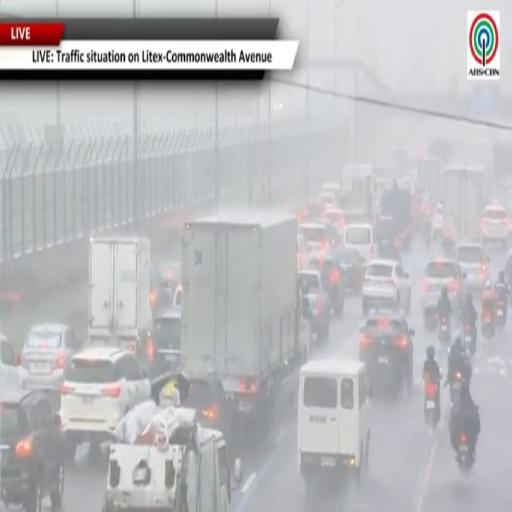car: (61, 346, 151, 461), (298, 360, 371, 493), (0, 387, 64, 511), (359, 311, 414, 392), (21, 324, 81, 391), (182, 373, 236, 445), (421, 259, 465, 325), (362, 260, 411, 315), (309, 252, 344, 316), (299, 268, 330, 340), (149, 309, 181, 377), (150, 262, 181, 312), (457, 243, 489, 291), (336, 248, 365, 293), (343, 223, 375, 261), (481, 205, 509, 247), (375, 216, 401, 259), (0, 334, 20, 386), (298, 221, 330, 251), (323, 207, 344, 236), (297, 201, 324, 222), (432, 204, 443, 241), (297, 235, 306, 268), (318, 191, 336, 207), (172, 283, 182, 311), (322, 182, 341, 195)
motorcycle: (424, 380, 440, 429), (457, 432, 474, 472), (481, 309, 495, 340), (450, 371, 462, 404), (464, 324, 476, 357), (438, 316, 450, 344), (496, 300, 507, 327), (424, 309, 438, 330)
truck: (181, 211, 309, 431), (104, 402, 241, 511), (88, 237, 154, 369), (443, 167, 485, 247), (339, 164, 376, 223), (381, 184, 411, 247), (417, 158, 442, 205)
